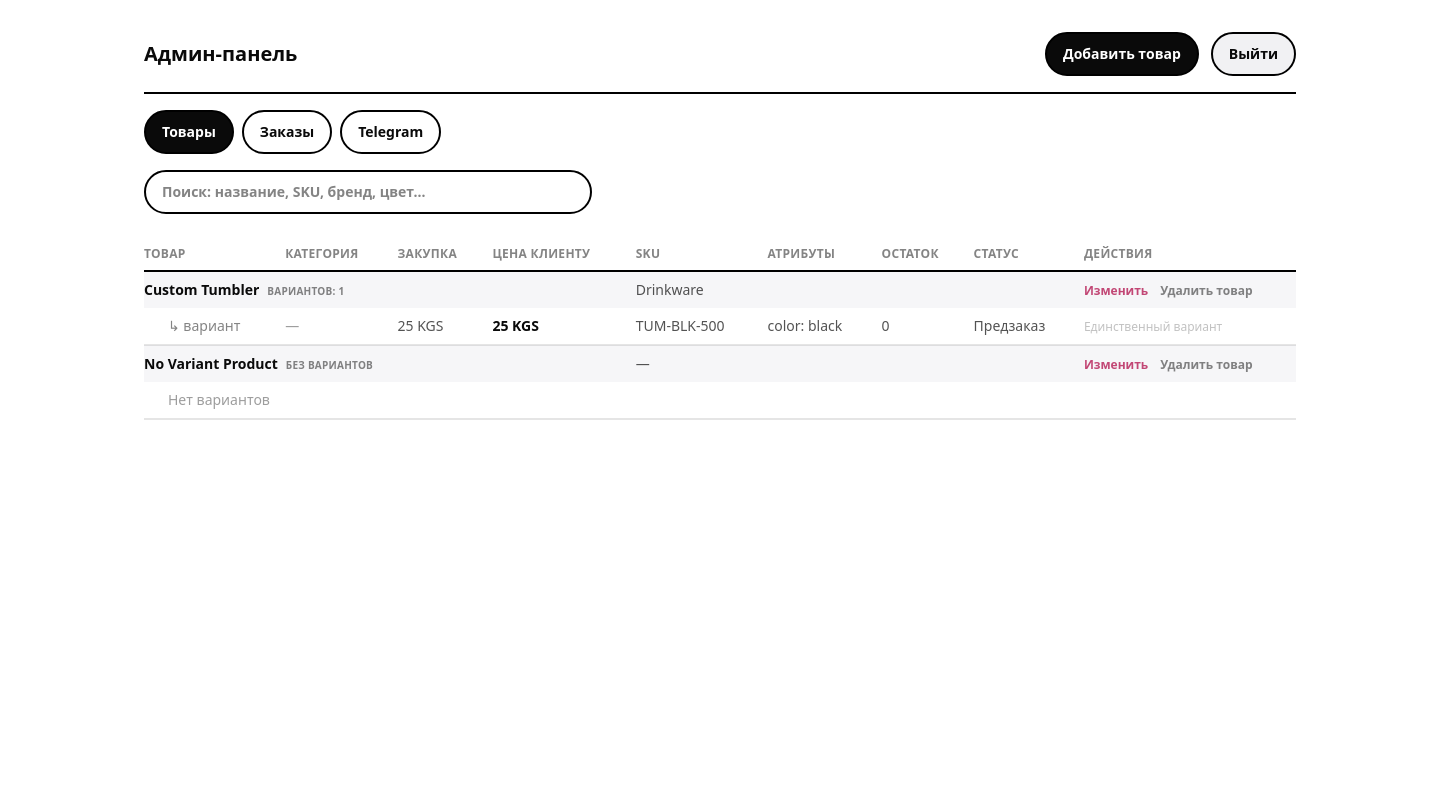
AdminDashboard › asks for confirmation before deleting a product, and says how many variants go with it
Step 1. Click the button "Удалить товар" in the row of "Custom Tumbler" → (1206, 291), box [1160,283,1253,299]
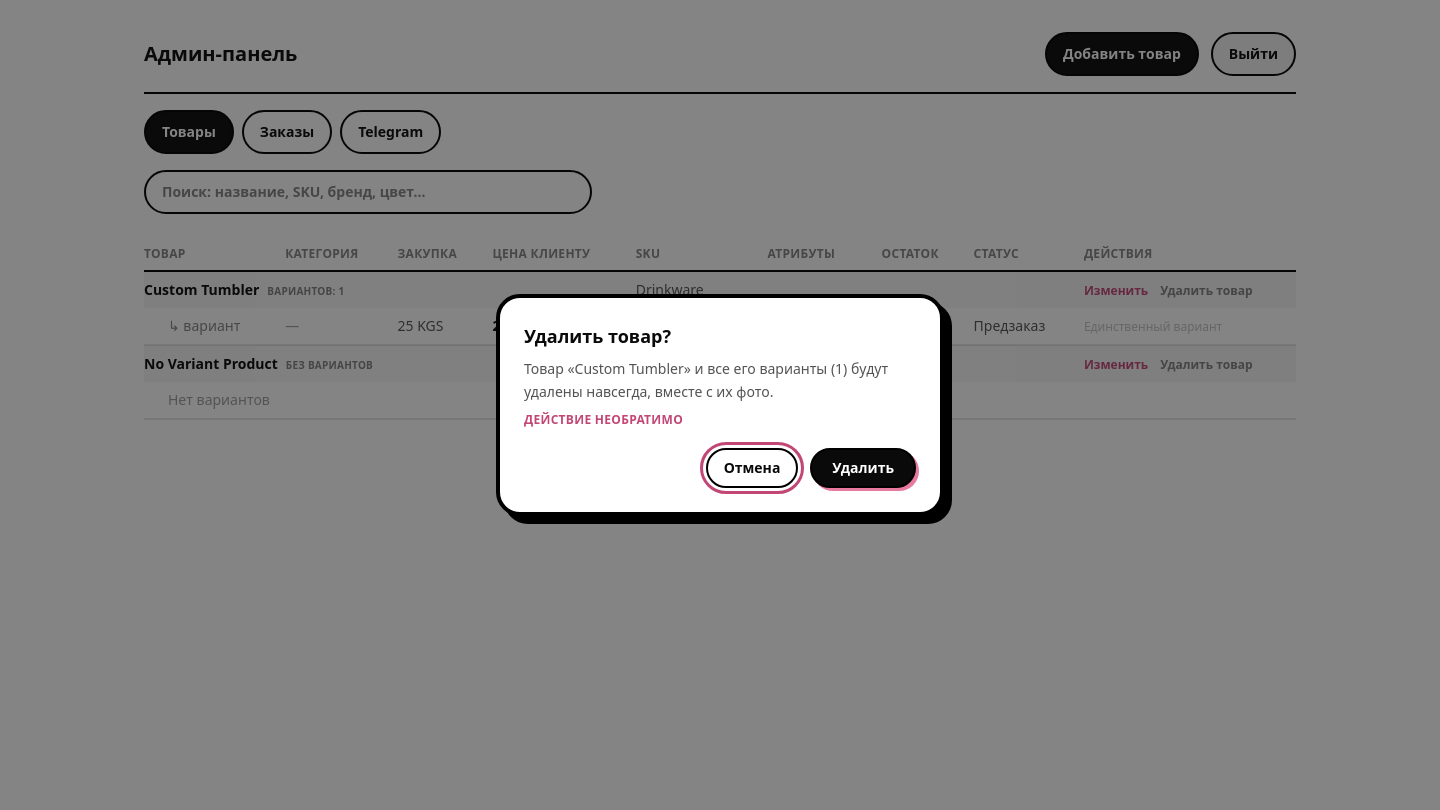
Result: the dialog "Удалить товар?" is shown at [496,294,944,516]
Result: the text "и все его варианты (1)" is shown at [524,359,888,401]
